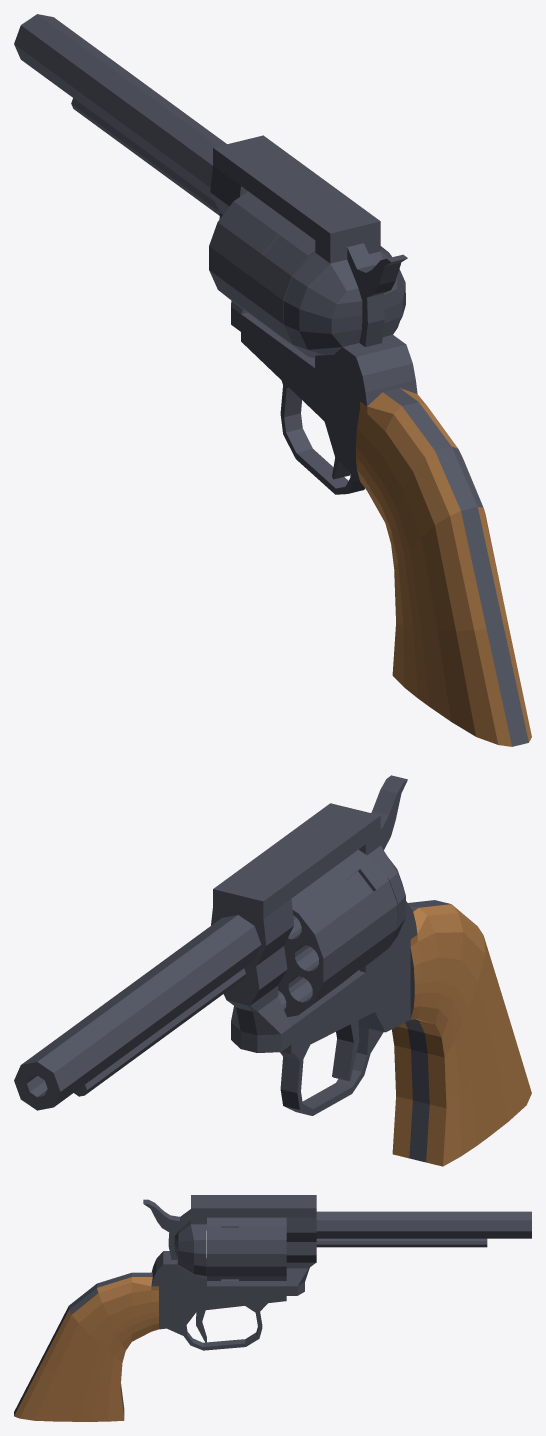
Rendered from revolver.glb.
3 views of the same model, one above another, from view 1: azimuth 30°, elevation 25°; view 2: azimuth 150°, elevation 25°; view 3: azimuth 270°, elevation 25° (orthographic). The views are drawn at different scales.
Parts seen in each view (by area): view 1: Body, Drum; view 2: Body, Drum; view 3: Body, Drum.
Part boxes in pixels (box(x1,y1,x2,y2)): Body: box(14, 14, 531, 746); Drum: box(209, 191, 387, 357); Body: box(14, 775, 531, 1166); Drum: box(278, 849, 397, 1017); Body: box(14, 1195, 531, 1421); Drum: box(207, 1217, 286, 1280).
Bounding box in the file's own units: 0.0629 × 0.2083 × 0.46.
